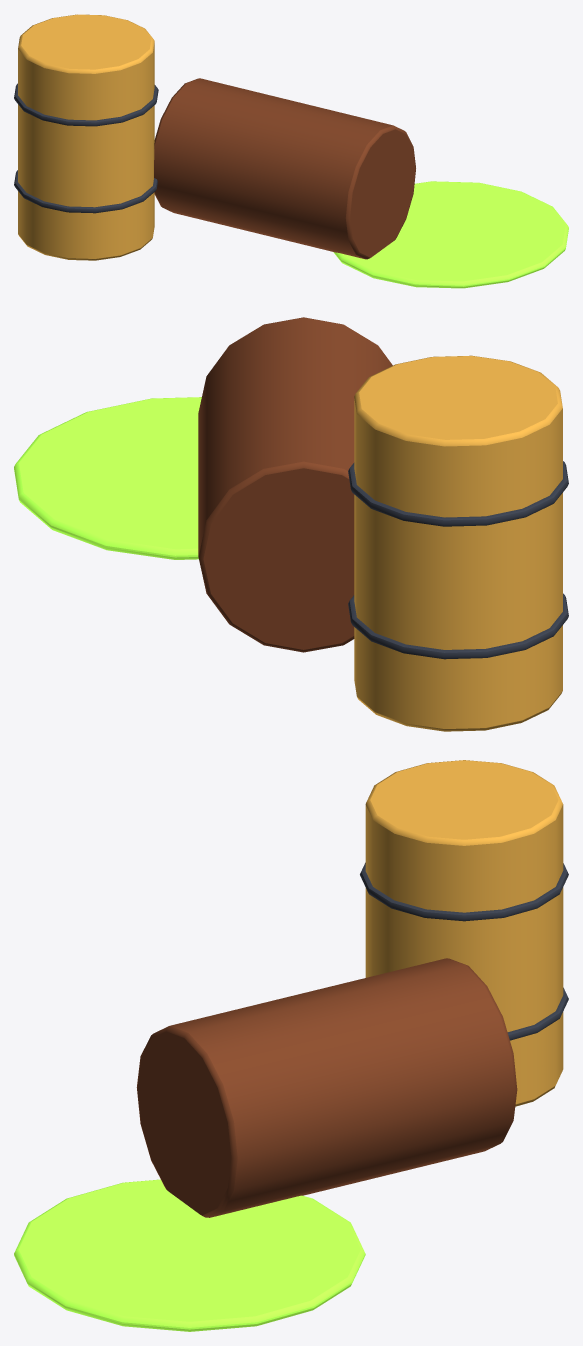
Rendered from schmutz_fass_1.fbx.
3 views of the same model, one above another, from view 1: azimuth 30°, elevation 25°; view 2: azimuth 150°, elevation 25°; view 3: azimuth 270°, elevation 25° (orthographic). The views are drawn at different scales.
Visible parts, largest first — view 1: schmutz_fass_1_Koerper; view 2: schmutz_fass_1_Koerper; view 3: schmutz_fass_1_Koerper.
Part boxes in pixels (x1,y1,x2,y2): schmutz_fass_1_Koerper: (14,14,568,288); schmutz_fass_1_Koerper: (14,317,568,731); schmutz_fass_1_Koerper: (14,760,568,1331).
Size of the model in its own units: 1.31 by 0.55 by 1.01.
